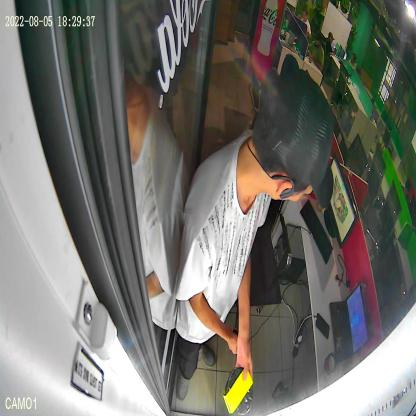yellow: (224, 367, 254, 416)
